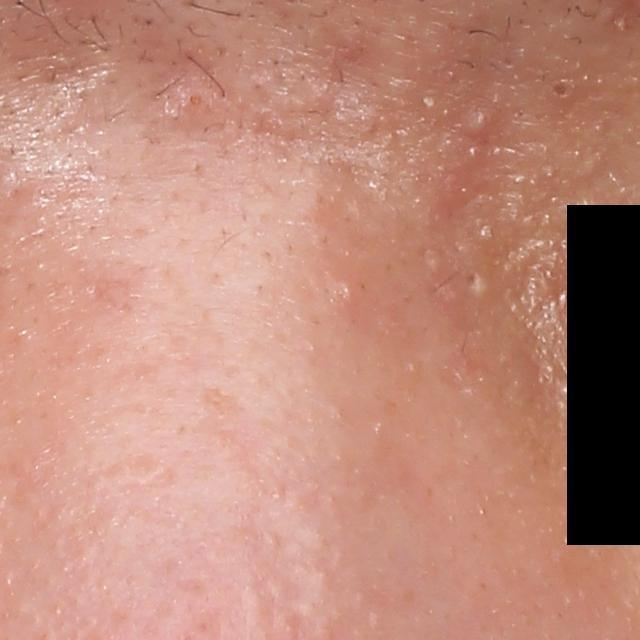comedo: (542, 71, 579, 102), (338, 280, 355, 303)
